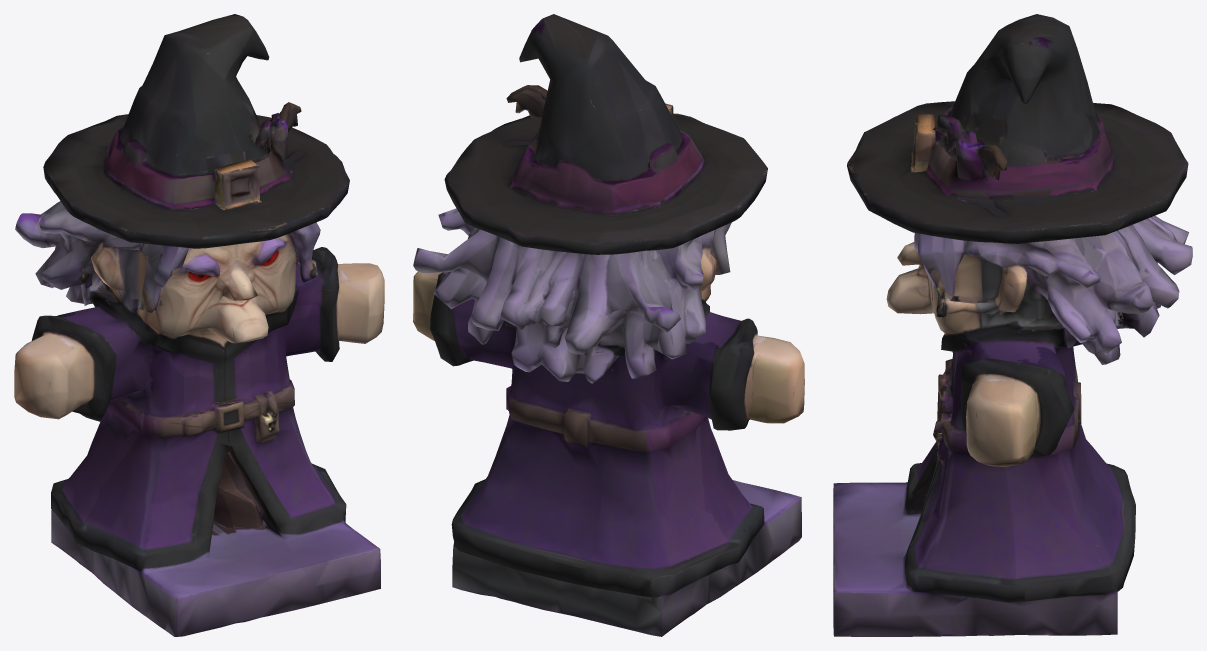
File: Meshy_AI_Crimson_Eyed_Wizard_0326010809_texture.glb
3 views of the same model, side by side, from view 1: azimuth 30°, elevation 25°; view 2: azimuth 150°, elevation 25°; view 3: azimuth 270°, elevation 25° (orthographic). The views are drawn at different scales.
Visible parts, largest first — view 1: Mesh1.0; view 2: Mesh1.0; view 3: Mesh1.0.
Boxes of the visible parts, left/top/right/bottom form: Mesh1.0: left=14, top=14, right=384, bottom=636; Mesh1.0: left=413, top=14, right=804, bottom=636; Mesh1.0: left=833, top=14, right=1192, bottom=636.
Bounding box in the file's own units: 1.46 × 2 × 1.14.
Materials: 1 (1 with a texture image).
